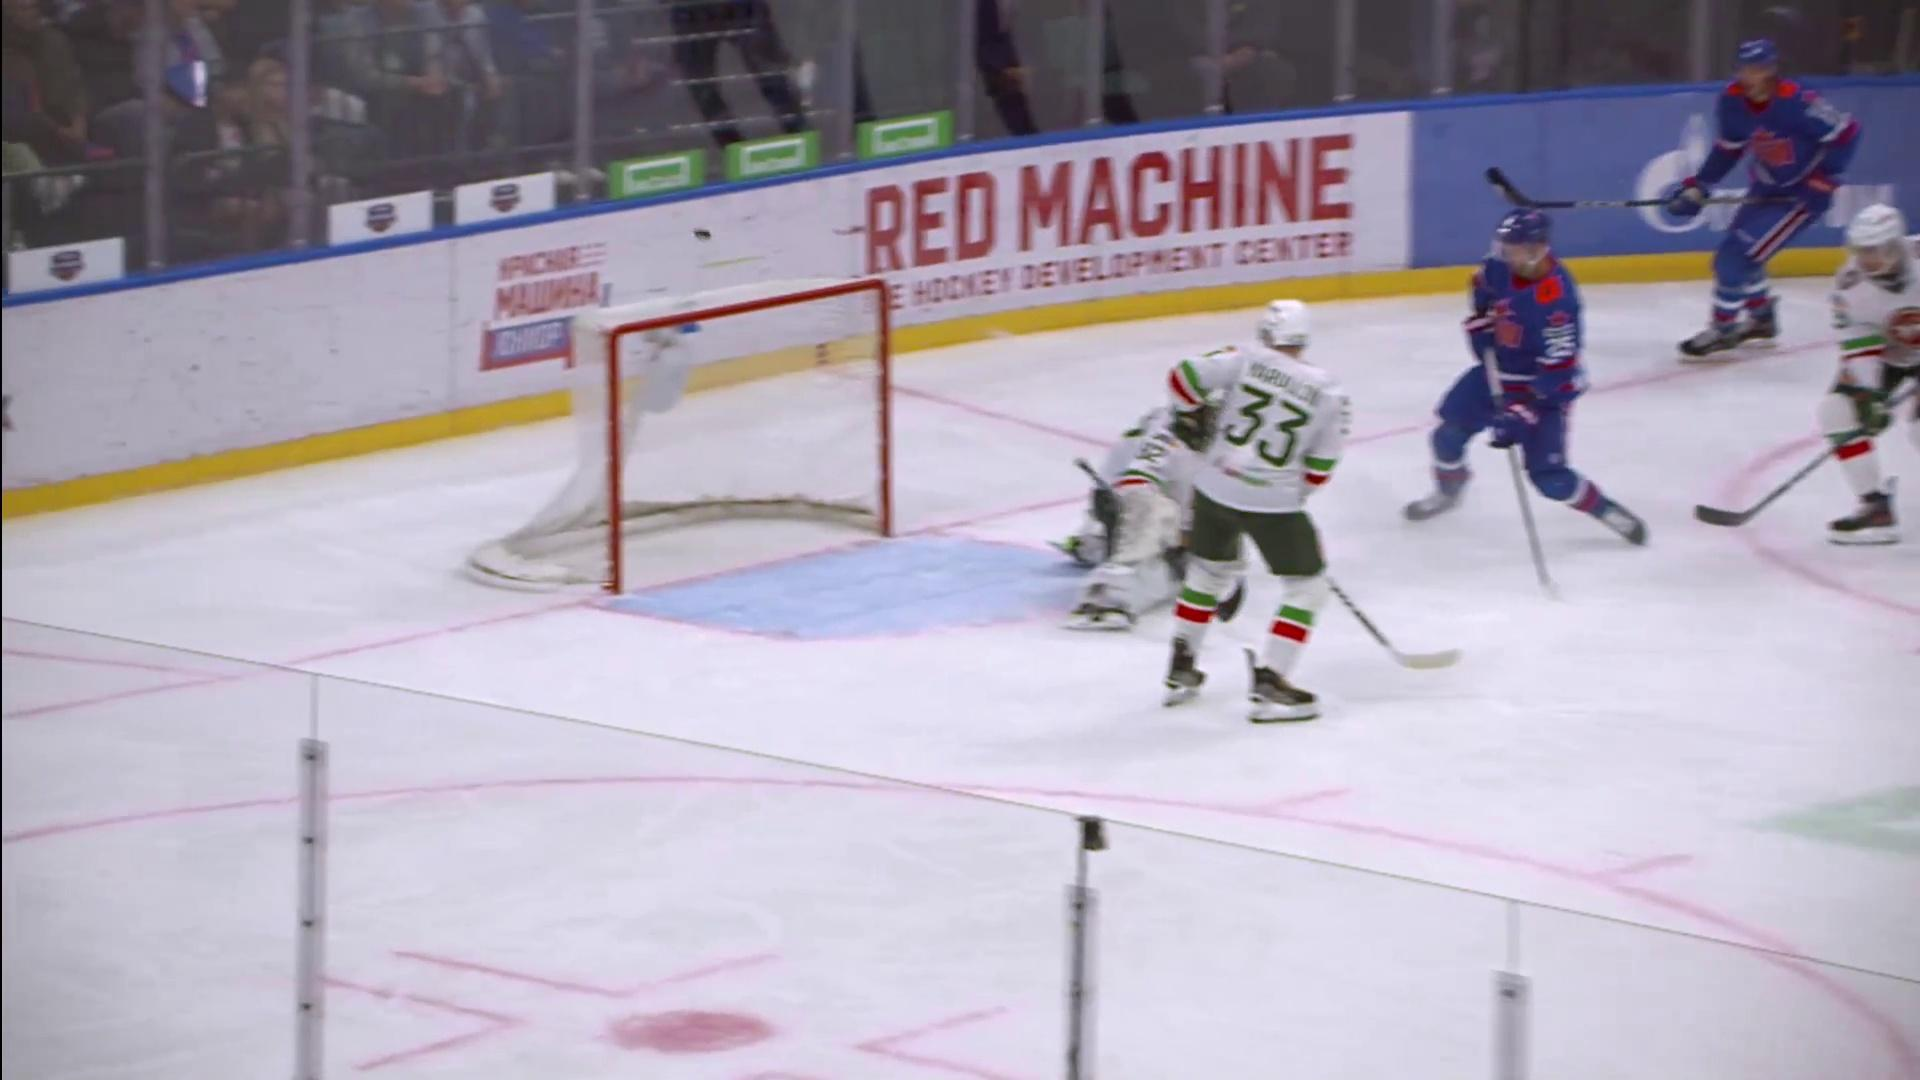ball: (692, 228, 713, 243)
